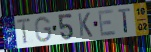5: (57, 13, 75, 41)
E: (97, 8, 117, 38)
G: (34, 16, 53, 43)
K: (77, 12, 94, 39)
T: (117, 7, 133, 35), (16, 17, 32, 45)
